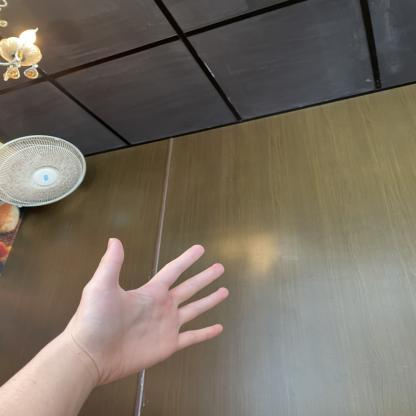bare_hand: (55, 227, 236, 382)
